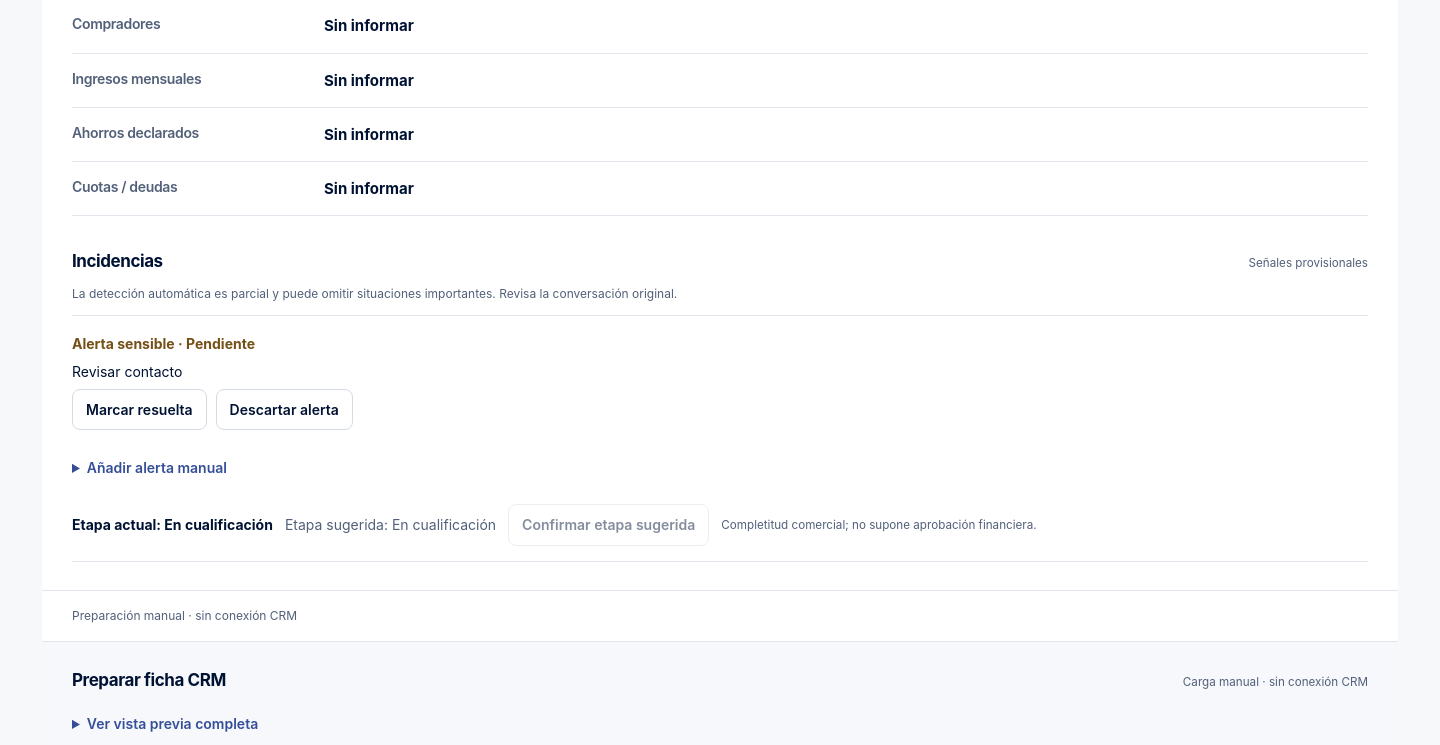
Test: interacciones de la interfaz › bloquea la pregunta al añadir una alerta sensible y permite revisarla
The width and height of the screenshot is (1440, 745).
Earlier steps of the test are not shown.
(page scrolled)
Click the button "Marcar resuelta": (139, 409) 72,388 -> 207,430
(page scrolled)
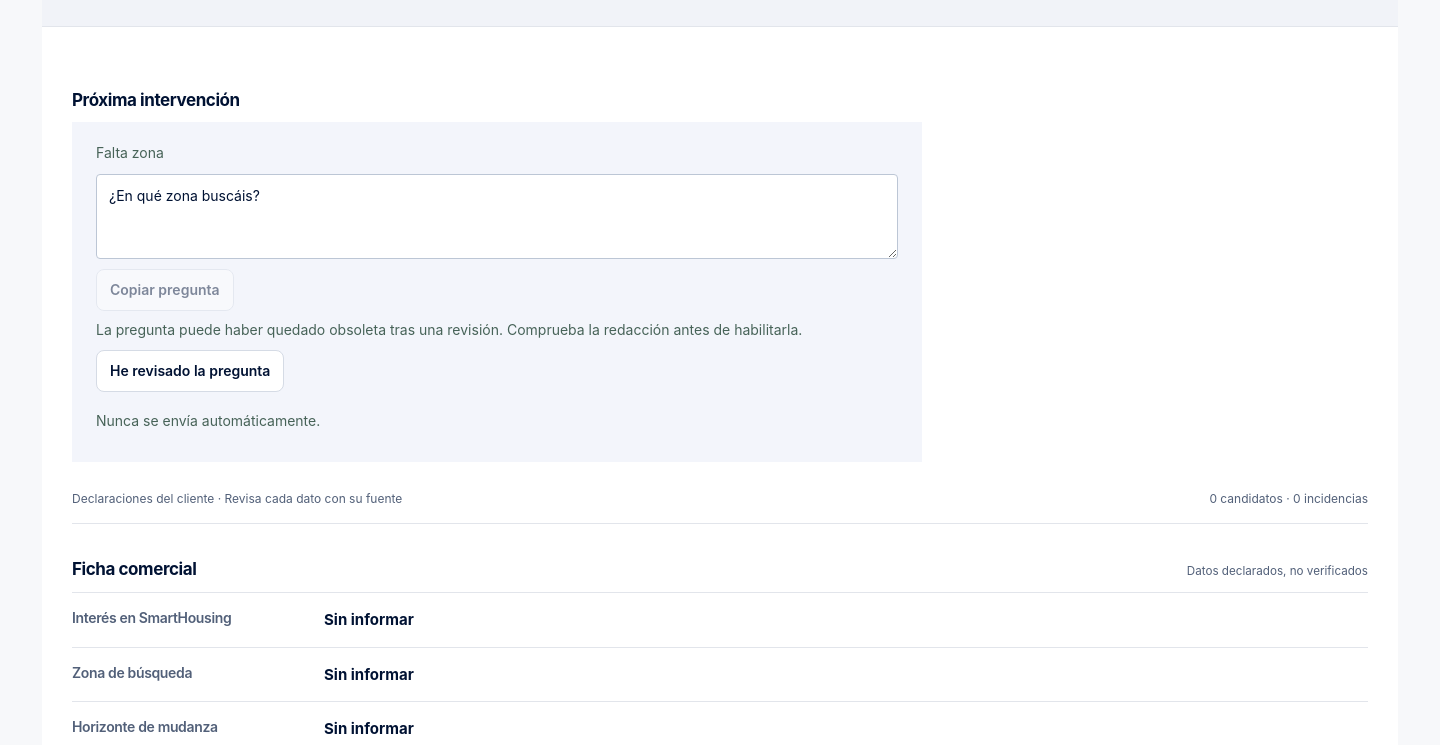
Click the button "He revisado la pregunta": (190, 371) 96,350 -> 284,392
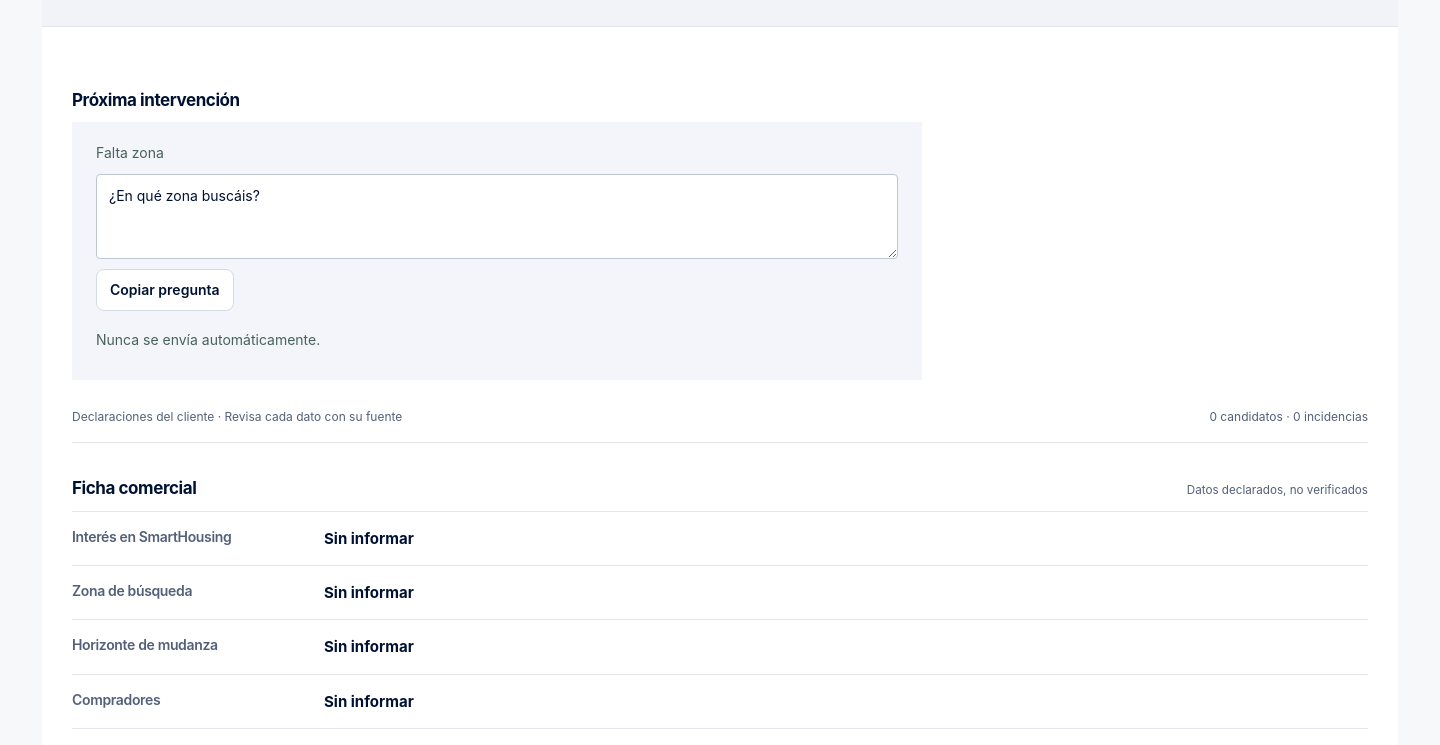
Result: the button "Copiar pregunta" is enabled at 96,269 -> 234,310
